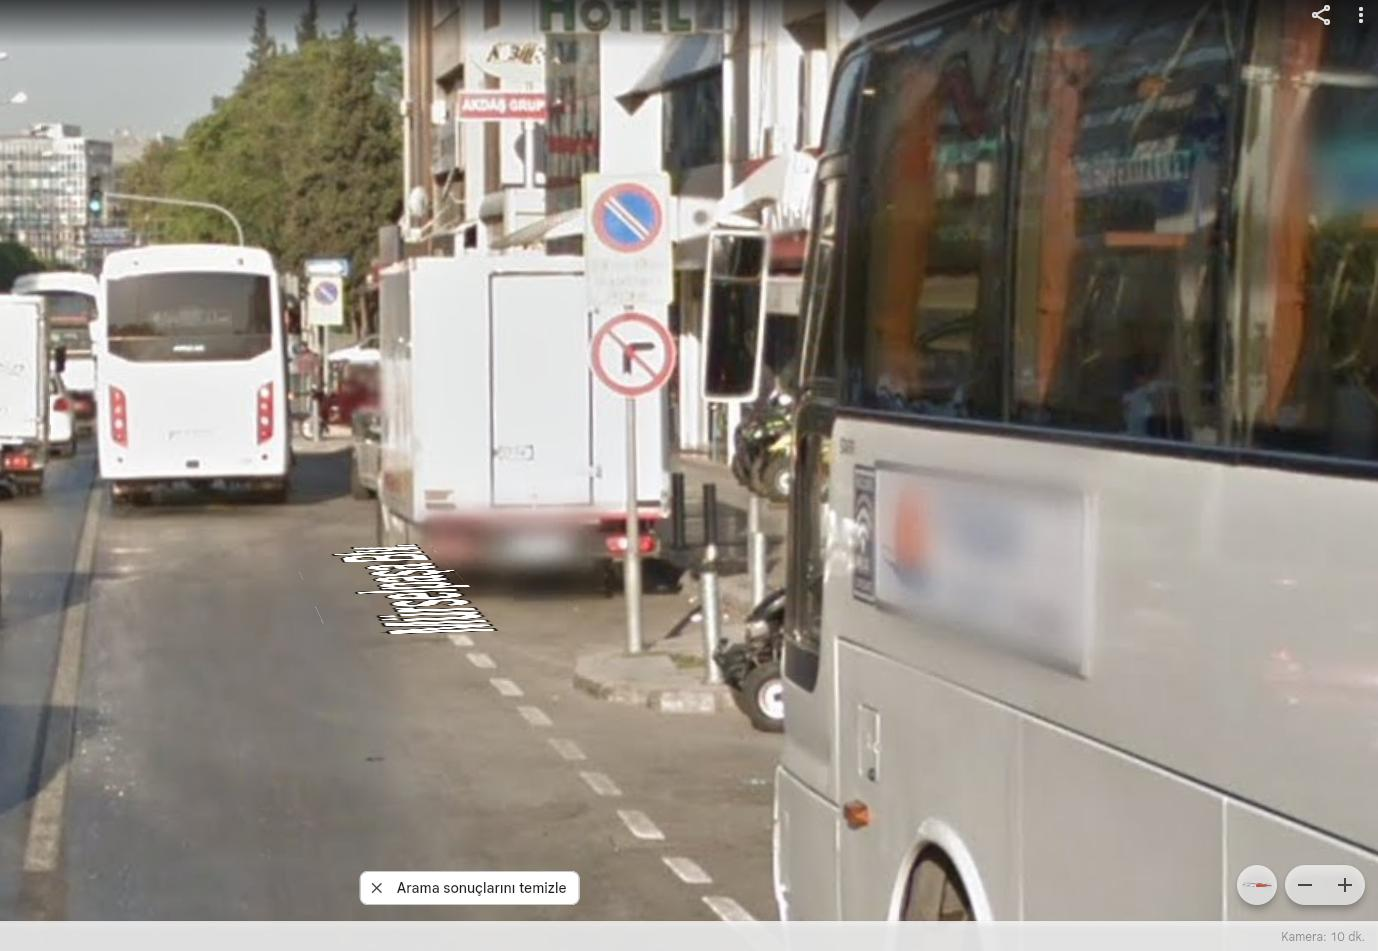rightturnsareforbidden: (590, 312, 677, 395)
